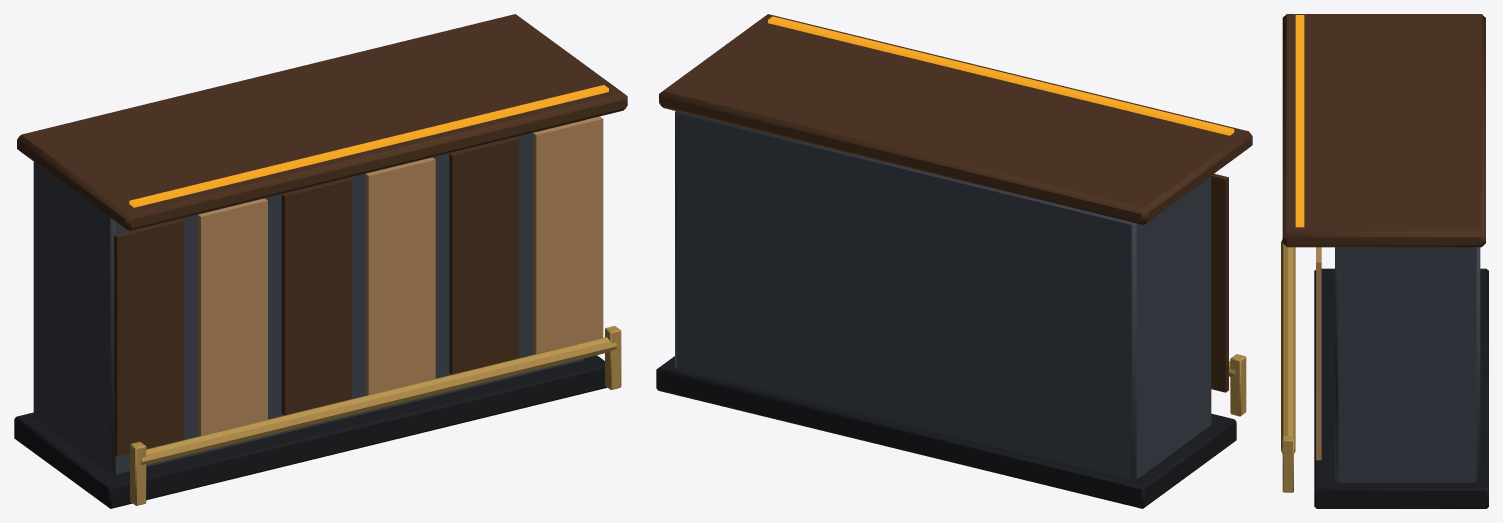
File: table_bar_counter.glb
3 views of the same model, side by side, from view 1: azimuth 30°, elevation 25°; view 2: azimuth 150°, elevation 25°; view 3: azimuth 270°, elevation 25° (orthographic). The views are drawn at different scales.
Parts seen in each view (by area): view 1: table_bar_counter; view 2: table_bar_counter; view 3: table_bar_counter.
Boxes of the visible parts, left/top/right/bottom form: table_bar_counter: left=14, top=14, right=627, bottom=508; table_bar_counter: left=656, top=14, right=1252, bottom=508; table_bar_counter: left=1281, top=14, right=1488, bottom=508.
Size of the model in its own units: 1.8 by 1.06 by 0.715.
